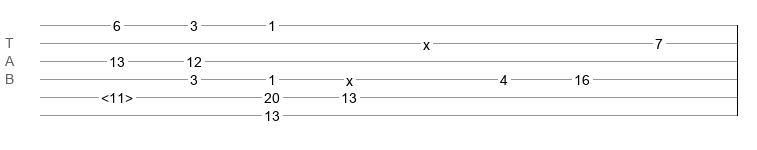1: (268, 72, 276, 82), (268, 18, 276, 28)
12: (186, 54, 202, 64)
13: (109, 54, 125, 64), (264, 108, 280, 118), (341, 90, 357, 100)
16: (574, 72, 590, 82)
20: (264, 90, 280, 100)
3: (190, 72, 198, 82), (190, 18, 198, 28)
4: (500, 72, 508, 82)
6: (113, 18, 121, 28)
7: (655, 36, 663, 46)
harmonic: (101, 90, 133, 100)
x: (346, 73, 353, 81), (423, 37, 430, 45)
